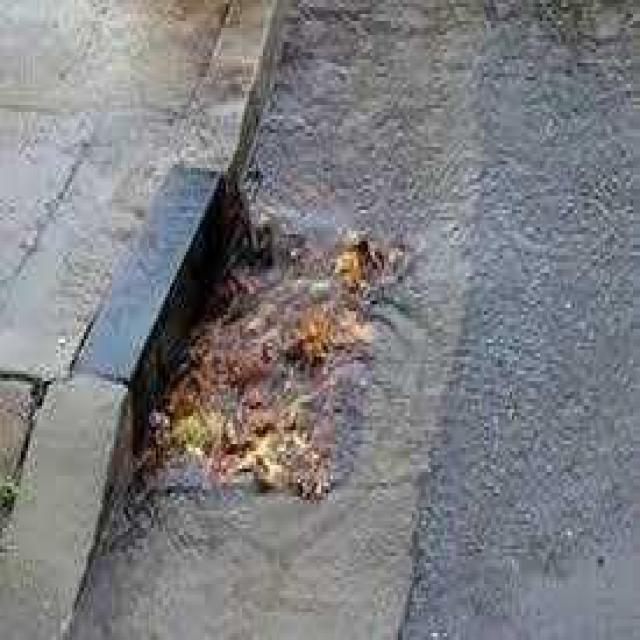curb: (1, 372, 155, 640), (68, 200, 246, 414), (160, 1, 310, 211)
